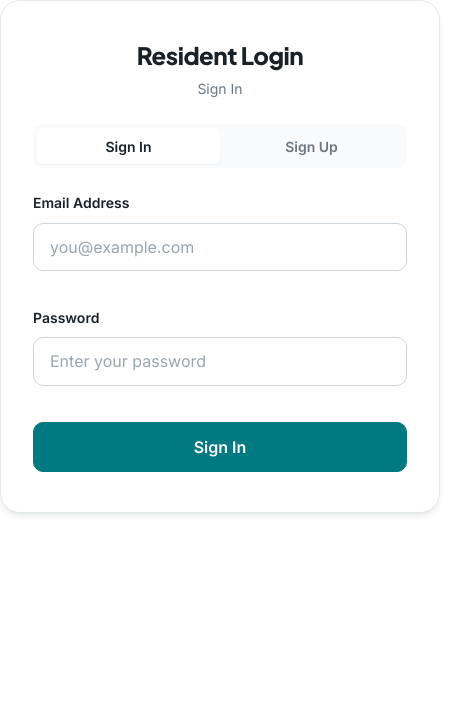
Scenario: LoginPage › switches to signup mode and shows confirm password
This screenshot has width=457, height=701.
Click the button "Sign Up" at point(312, 146), box [220,128,403,164]
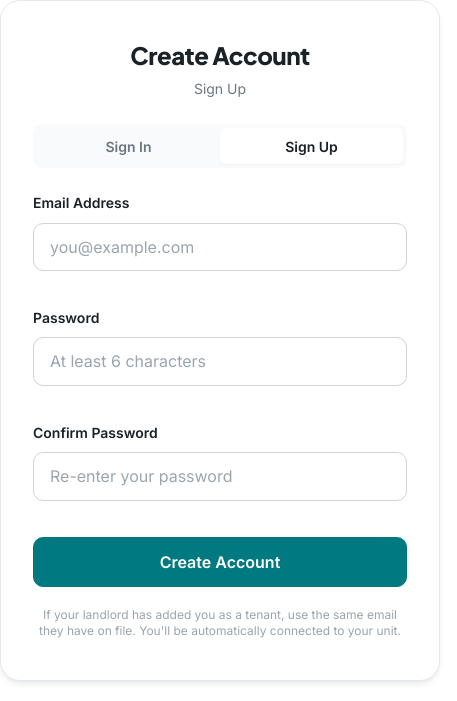
Result: the password field labelled "Confirm Password" is shown at [33,452,407,500]
